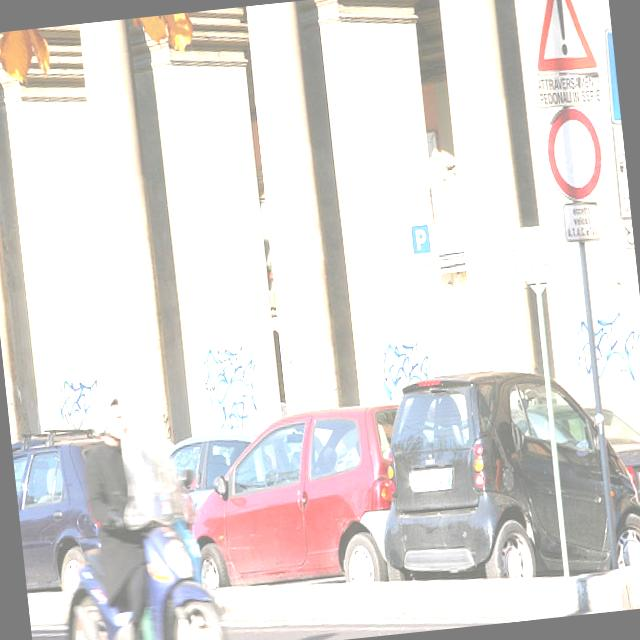Vehicle: (372, 362, 640, 598), (177, 402, 417, 604), (52, 414, 233, 640), (10, 427, 140, 604), (158, 426, 274, 509), (577, 394, 640, 479)
